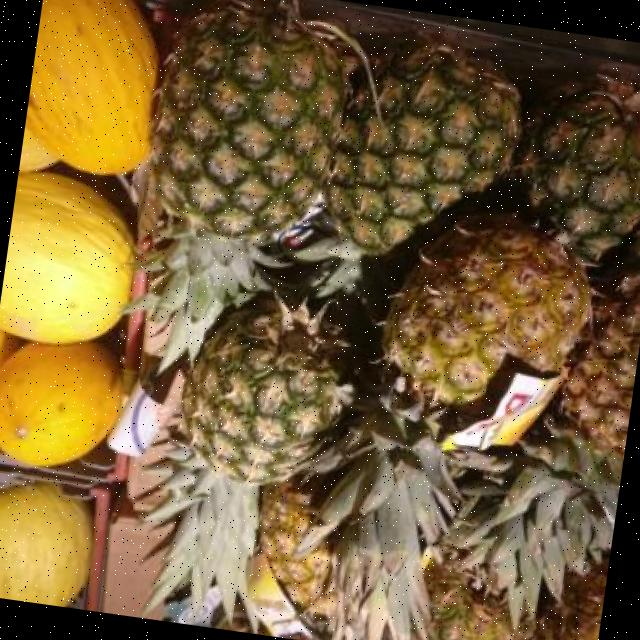pineapple: (296, 214, 587, 640), (138, 0, 345, 368), (449, 236, 640, 624), (143, 294, 340, 615), (293, 44, 520, 316), (519, 81, 640, 263), (247, 490, 330, 637), (425, 563, 533, 640), (533, 557, 610, 640)
